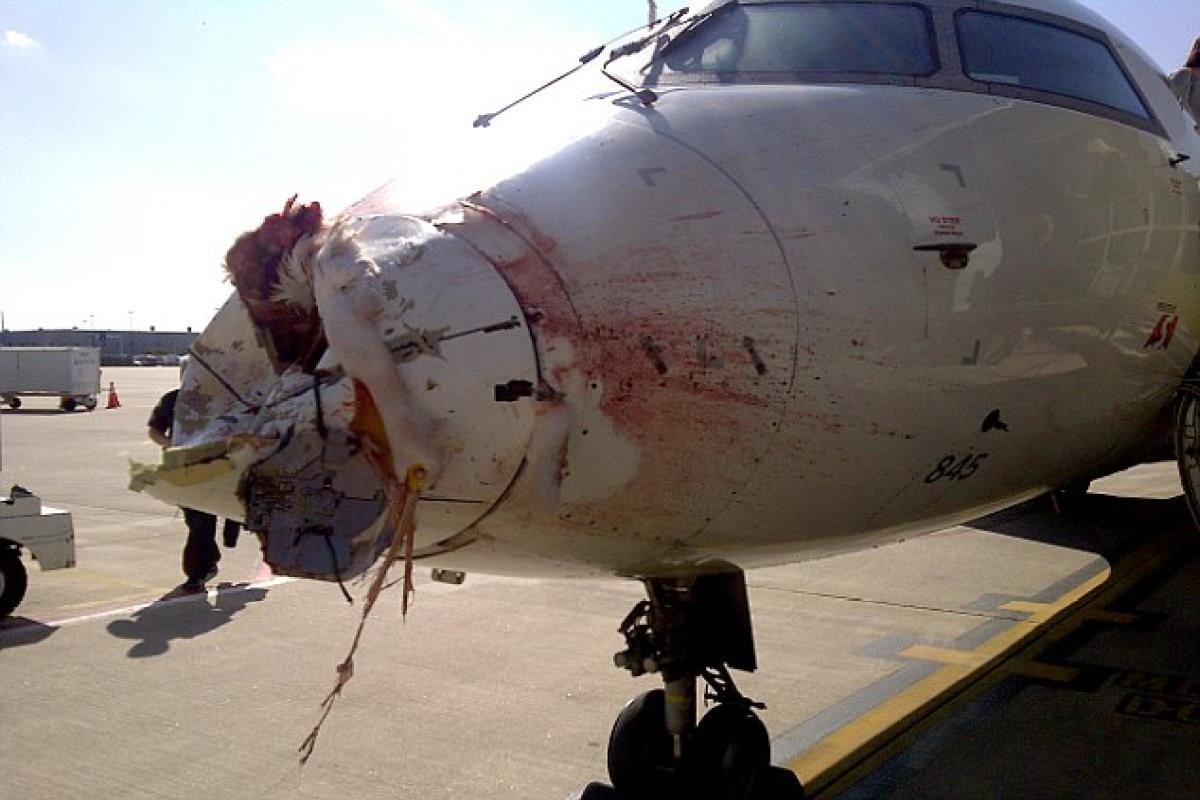Fuselage_damage: (103, 173, 569, 616)
